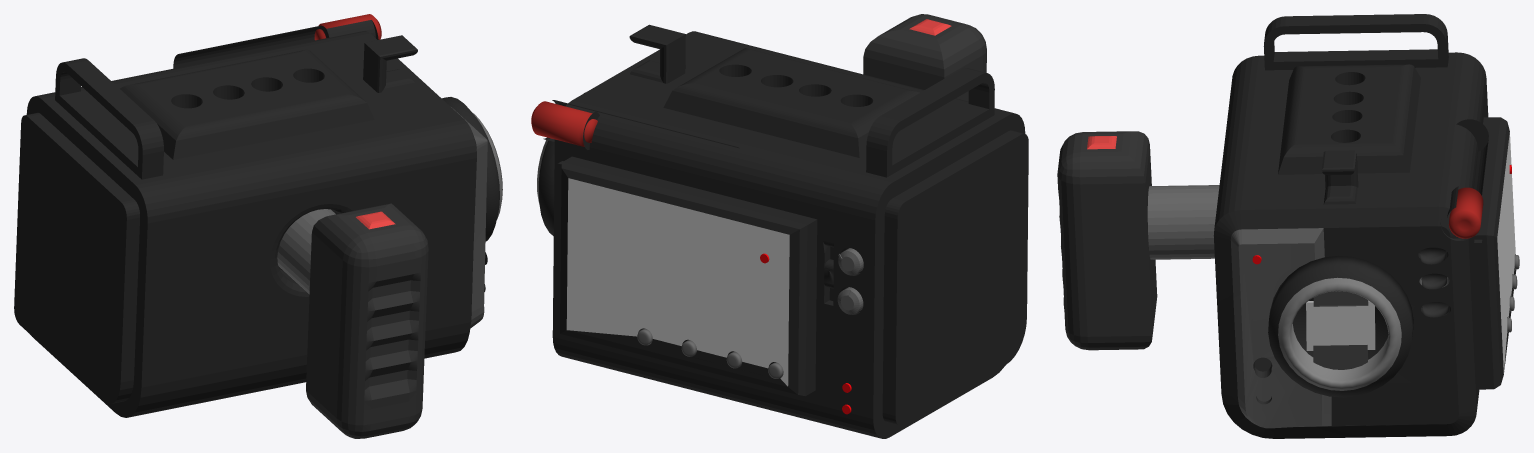
The model's file is cameraHead.obj.
3 renders of one model, left to right at view 1: azimuth 30°, elevation 25°; view 2: azimuth 150°, elevation 25°; view 3: azimuth 270°, elevation 25°, orthographic. The views are drawn at different scales.
Parts seen in each view (by area): view 1: EXPORT_Cube.007, EXPORT_Cube.004, EXPORT_Cylinder.038, EXPORT_Cube.005, EXPORT_Cylinder.021, EXPORT_Cylinder.040, EXPORT_Cylinder.036; view 2: EXPORT_Cube.007, EXPORT_Cube.004, EXPORT_Cube.005, EXPORT_Cylinder.036, EXPORT_Cylinder.040, EXPORT_Cylinder.035, EXPORT_Cylinder.037, EXPORT_Cylinder.038; view 3: EXPORT_Cube.007, EXPORT_Cube.004, EXPORT_Cylinder.040, EXPORT_Cylinder.021, EXPORT_Cube.003, EXPORT_Cube.005, EXPORT_Cylinder.036, EXPORT_Cube.002, EXPORT_Cylinder.038, EXPORT_Cube.001.
Boxes of the visible parts, x1,y1,x2,y2 form: EXPORT_Cube.007: (14,31,487,417); EXPORT_Cube.004: (306,203,428,438); EXPORT_Cylinder.038: (173,20,378,68); EXPORT_Cube.005: (363,35,417,92); EXPORT_Cylinder.021: (277,209,335,294); EXPORT_Cylinder.040: (442,97,502,241); EXPORT_Cylinder.036: (314,14,381,40); EXPORT_Cube.007: (552,31,1028,438); EXPORT_Cube.004: (863,14,986,101); EXPORT_Cube.005: (629,24,685,83); EXPORT_Cylinder.036: (531,101,597,146); EXPORT_Cylinder.040: (537,93,584,235); EXPORT_Cylinder.035: (837,287,863,314); EXPORT_Cylinder.037: (838,248,863,275); EXPORT_Cylinder.038: (543,100,739,149); EXPORT_Cube.007: (1213,14,1516,438); EXPORT_Cube.004: (1057,131,1157,350); EXPORT_Cylinder.040: (1268,256,1413,397); EXPORT_Cylinder.021: (1147,185,1219,259); EXPORT_Cube.003: (1306,300,1375,350); EXPORT_Cube.005: (1321,150,1358,204); EXPORT_Cylinder.036: (1448,187,1483,238); EXPORT_Cube.002: (1313,345,1367,369); EXPORT_Cylinder.038: (1440,119,1488,240); EXPORT_Cube.001: (1313,291,1368,306).
Bounding box in the file's own units: 2.52 × 1.84 × 2.61.
26 materials, 26 textured.
